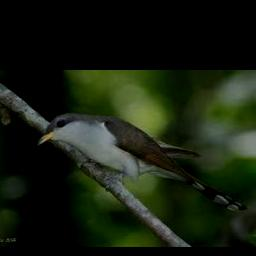Cuckoo: (37, 113, 247, 212)
